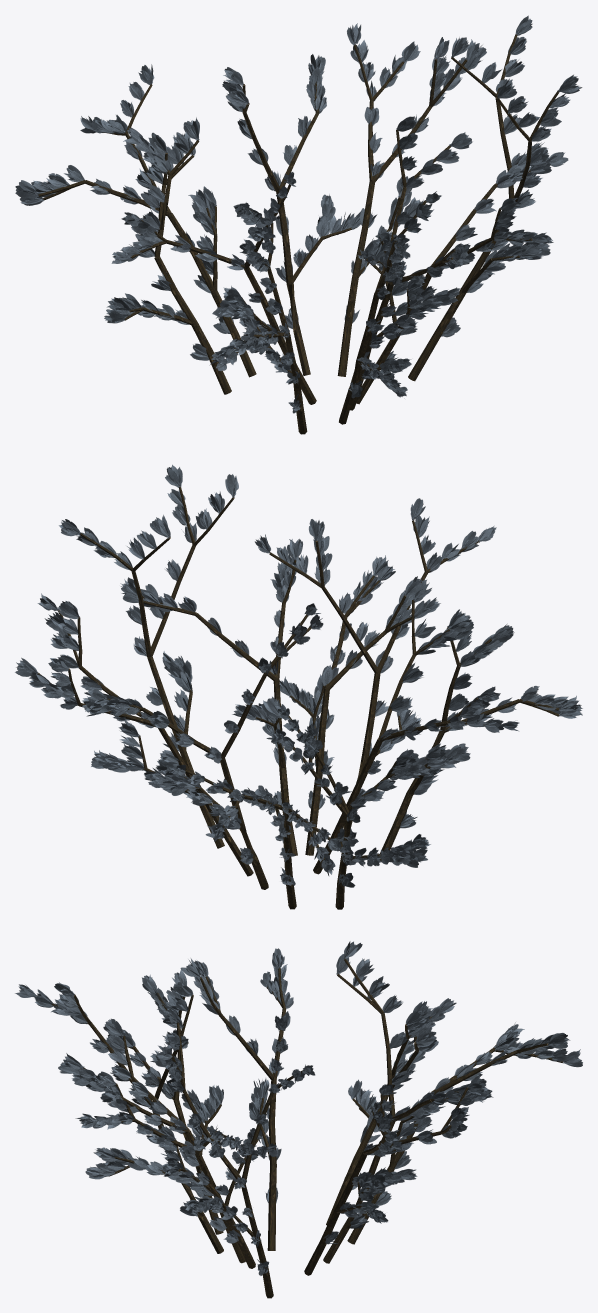
File: sagebrush_grey_v02.glb
The picture shows the model from 3 angles, top to bottom: view 1: azimuth 30°, elevation 25°; view 2: azimuth 150°, elevation 25°; view 3: azimuth 270°, elevation 25°; orthographic projection. The views are drawn at different scales.
Parts seen in each view (by area): view 1: sagebrush_grey_v02; view 2: sagebrush_grey_v02; view 3: sagebrush_grey_v02.
Part boxes in pixels (x1,y1,x2,y2): sagebrush_grey_v02: [15, 15, 582, 434]; sagebrush_grey_v02: [15, 465, 582, 909]; sagebrush_grey_v02: [15, 941, 582, 1298].
Bounding box in the file's own units: 1.09 × 0.7707 × 1.29.
Materials: 2 (2 with a texture image).
